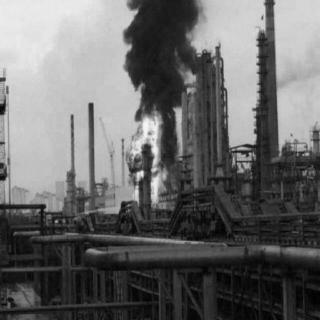Fire: (121, 101, 170, 207)
Smoke: (118, 3, 198, 127)
